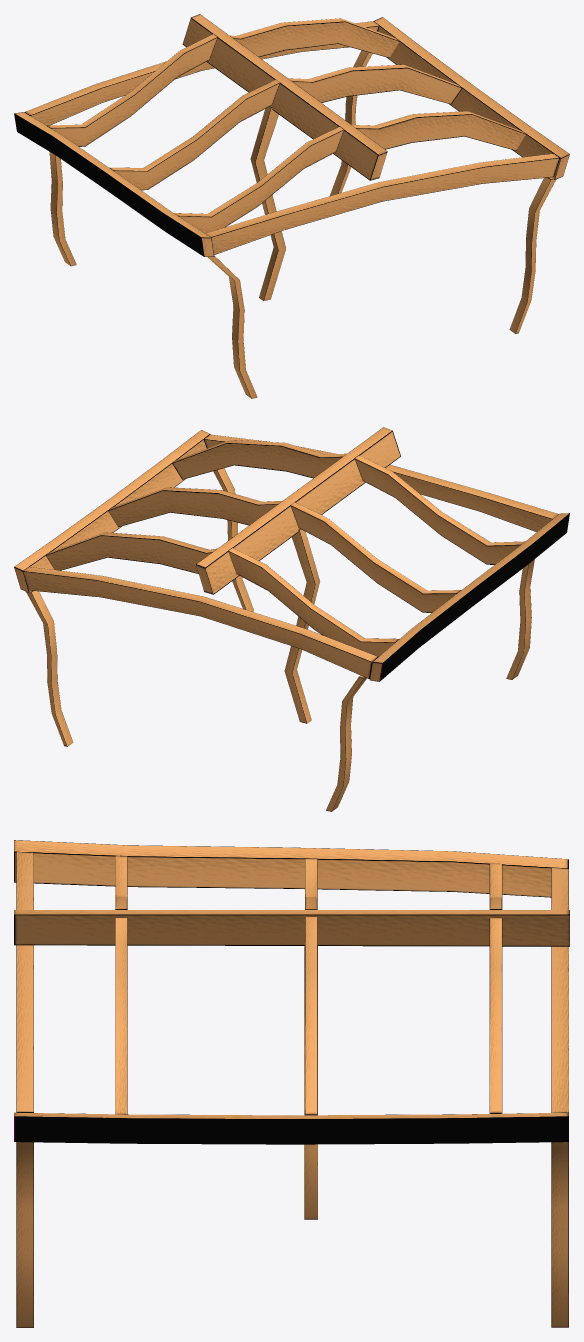
The model's file is InternalStructureShed.fbx.
3 renders of one model, top to bottom at view 1: azimuth 30°, elevation 25°; view 2: azimuth 150°, elevation 25°; view 3: azimuth 270°, elevation 25°, orthographic. The views are drawn at different scales.
Parts seen in each view (by area): view 1: InternalStructureShedModified; view 2: InternalStructureShedModified; view 3: InternalStructureShedModified.
Part boxes in pixels (x1,y1,x2,y2): InternalStructureShedModified: (14,14,569,398); InternalStructureShedModified: (14,427,569,811); InternalStructureShedModified: (14,840,569,1327).
Bounding box in the file's own units: 354 × 197 × 312.
